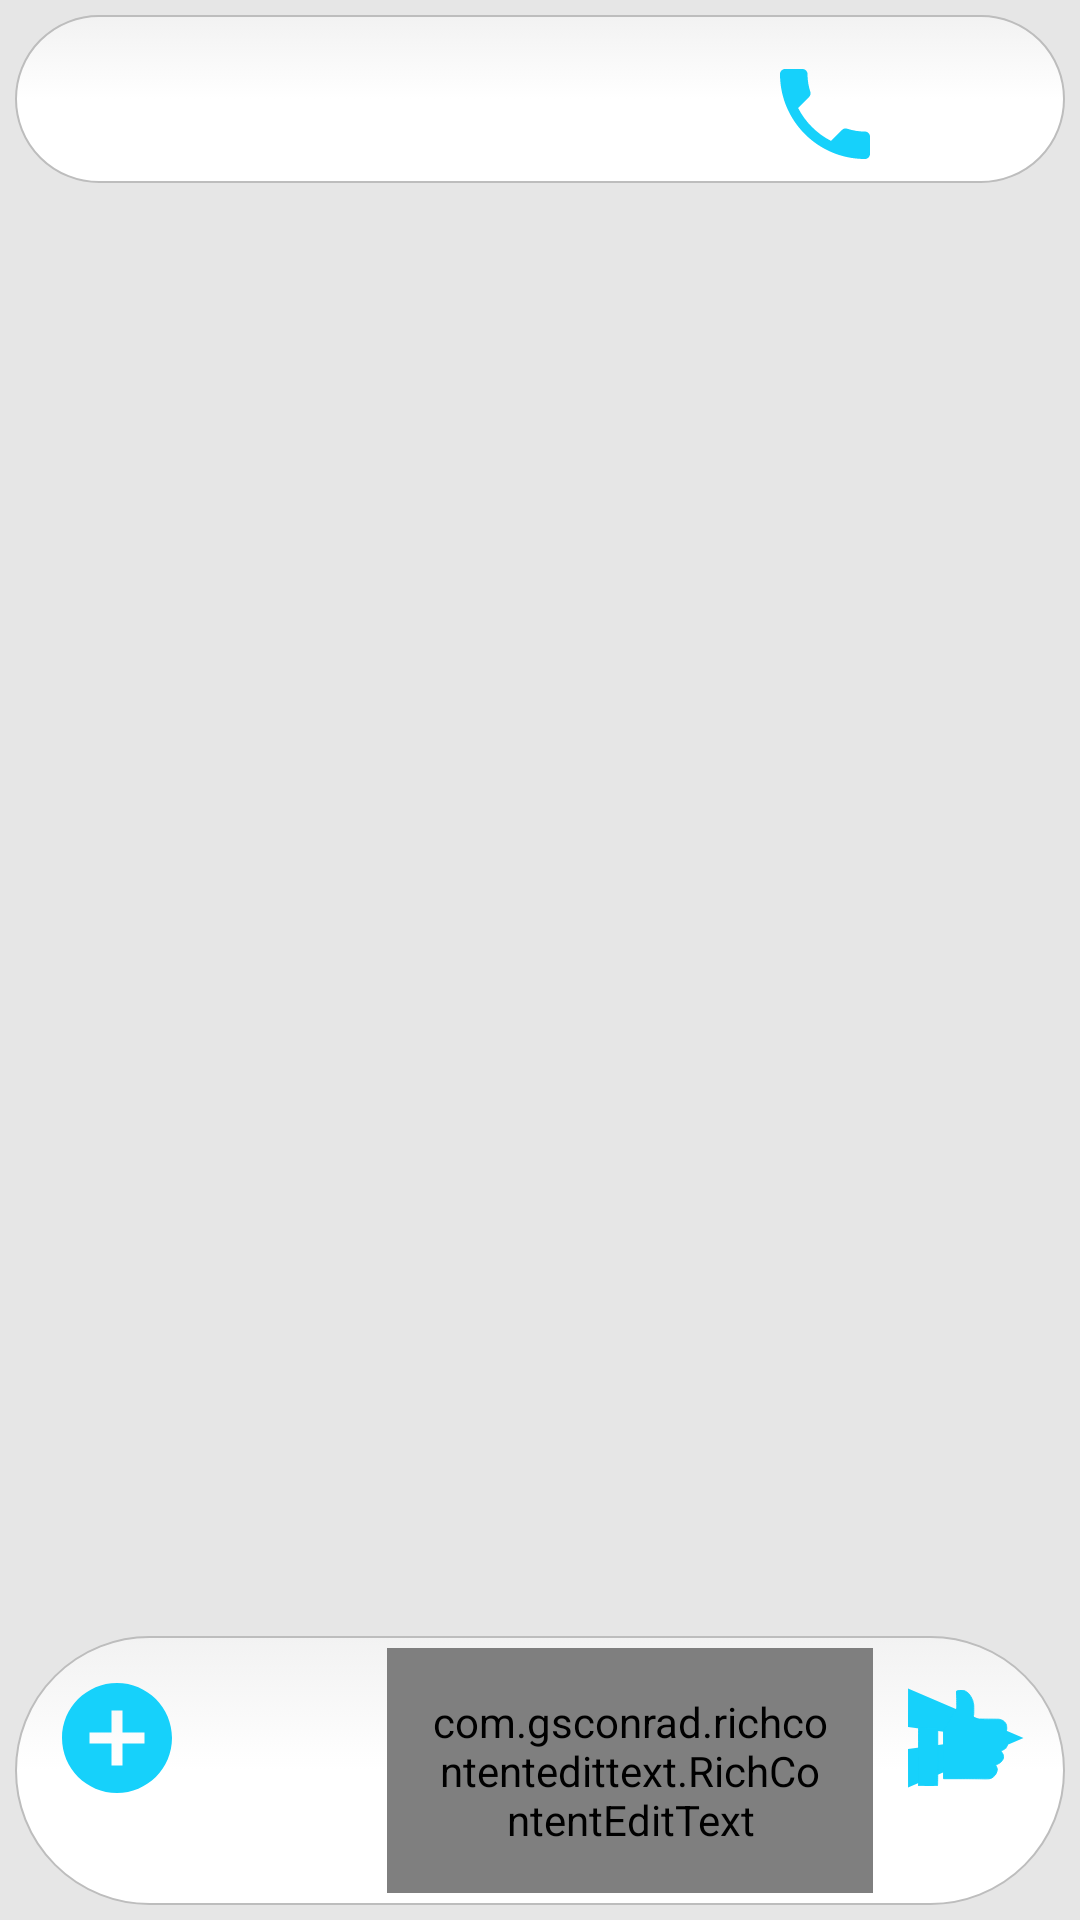

Icon bounding boxes for this 1080 x 1920 phone screenshot, format (x1, y1, x2, y2):
add circle: (62, 1683, 172, 1793)
phone: (780, 69, 870, 159)
